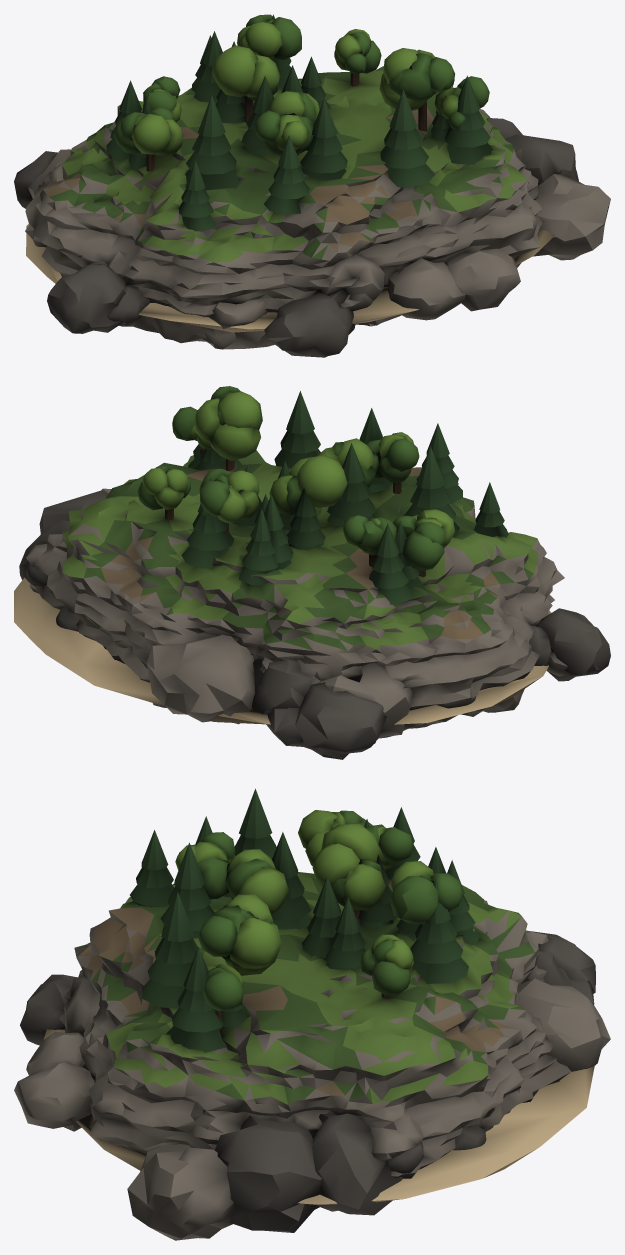
Rendered from island_wooded.glb.
3 renders of one model, top to bottom at view 1: azimuth 30°, elevation 25°; view 2: azimuth 150°, elevation 25°; view 3: azimuth 270°, elevation 25°, orthographic. The views are drawn at different scales.
Parts seen in each view (by area): view 1: island_wooded; view 2: island_wooded; view 3: island_wooded.
Part boxes in pixels (bbox=[...]): island_wooded: bbox=[14, 14, 610, 357]; island_wooded: bbox=[14, 386, 610, 759]; island_wooded: bbox=[14, 788, 610, 1240].
Bounding box in the file's own units: 3.16 × 1.26 × 2.58.
